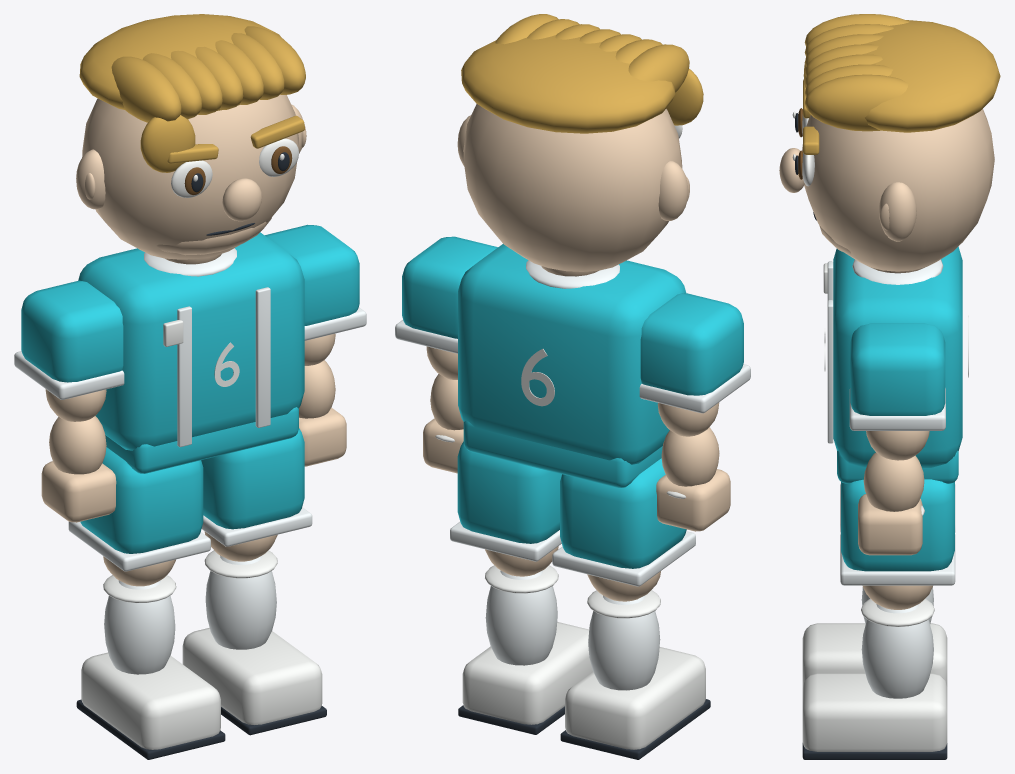
The model's file is Efe.fbx.
3 renders of one model, left to right at view 1: azimuth 30°, elevation 25°; view 2: azimuth 150°, elevation 25°; view 3: azimuth 270°, elevation 25°, orthographic.
Visible parts, largest first — view 1: Torso, Head, Boot_Left, Boot_Right, Sleeve_Left, Shorts_Left, Shorts_Right, HairCap, Sleeve_Right, Sock_Left, Sock_Right, Waist (+34 smaller); view 2: Torso, Head, HairCap, Shorts_Left, Sleeve_Left, Boot_Left, Shorts_Right, Boot_Right, Sleeve_Right, Sock_Left, Sock_Right, Waist (+23 smaller); view 3: Head, Torso, HairCap, Boot_Right, Sleeve_Right, Shorts_Right, Sock_Right, Boot_Left, SweptLock.006, Hand_Right, Forearm_Right, ShortHem_Right (+17 smaller).
Boxes of the visible parts, <box> form: Torso: <box>78,232,304,450</box>; Head: <box>82,94,298,259</box>; Boot_Left: <box>81,652,220,749</box>; Boot_Right: <box>182,627,322,724</box>; Sleeve_Left: <box>21,280,123,382</box>; Shorts_Left: <box>80,447,203,553</box>; Shorts_Right: <box>201,428,304,529</box>; HairCap: <box>79,14,281,110</box>; Sleeve_Right: <box>265,224,359,325</box>; Sock_Left: <box>104,580,175,674</box>; Sock_Right: <box>205,555,276,649</box>; Waist: <box>105,407,298,473</box>; Torso: <box>458,244,686,464</box>; Head: <box>463,104,682,271</box>; HairCap: <box>461,35,675,133</box>; Shorts_Left: <box>560,458,686,568</box>; Sleeve_Left: <box>640,293,743,395</box>; Boot_Left: <box>565,647,705,749</box>; Shorts_Right: <box>457,441,561,543</box>; Boot_Right: <box>462,622,592,724</box>; Sleeve_Right: <box>402,236,497,338</box>; Sock_Left: <box>588,595,660,690</box>; Sock_Right: <box>485,570,557,665</box>; Waist: <box>463,420,662,487</box>; Head: <box>802,109,994,271</box>; Torso: <box>833,246,962,467</box>; HairCap: <box>862,20,1000,132</box>; Boot_Right: <box>802,673,947,751</box>; Sleeve_Right: <box>850,323,945,415</box>; Shorts_Right: <box>841,479,954,571</box>; Sock_Right: <box>861,604,933,698</box>; Boot_Left: <box>802,623,947,687</box>; SweptLock.006: <box>805,74,908,131</box>; Hand_Right: <box>858,494,922,555</box>; Forearm_Right: <box>863,452,924,511</box>; ShortHem_Right: <box>840,533,955,585</box>.
Bounding box in the file's own units: 93.31 × 194 × 57.73.
